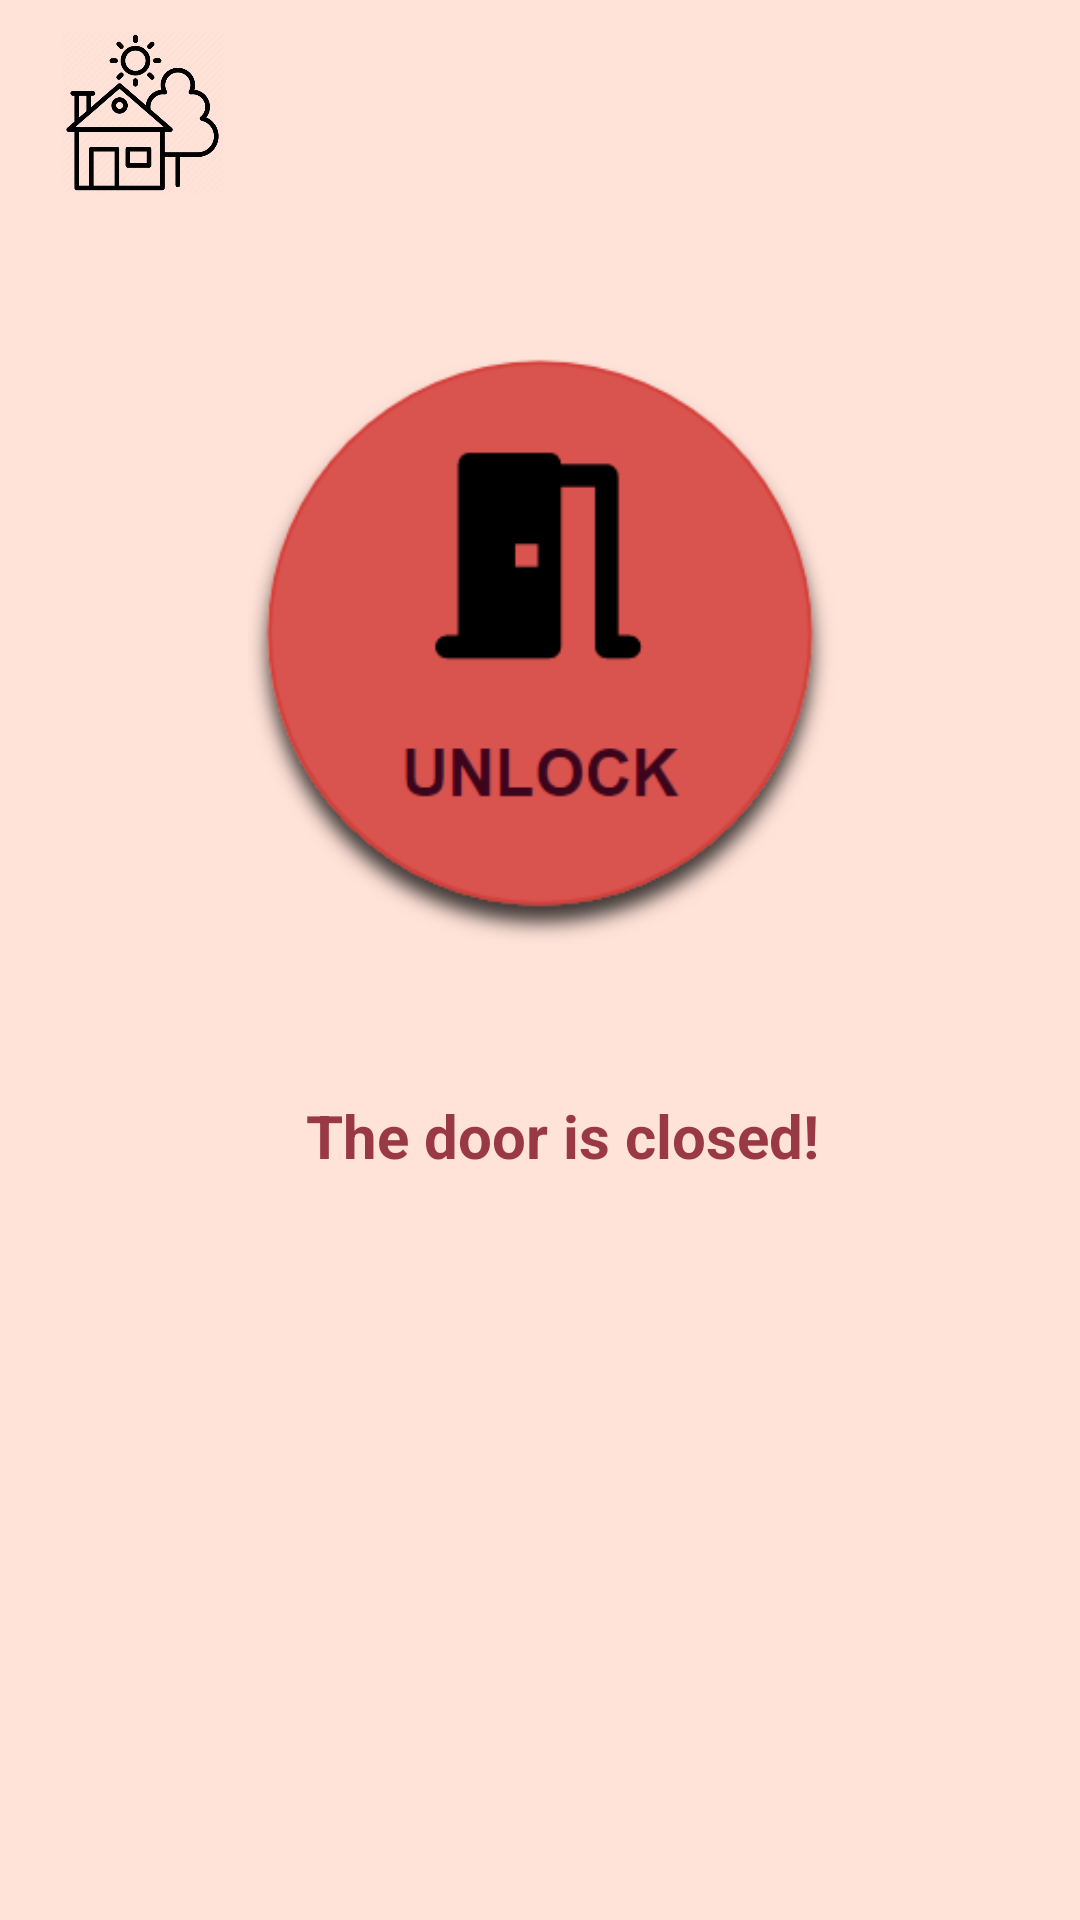

Point at icon controls on the screen. Image size 1080 x 1920, points as point (x, y).
house: point (142, 112)
